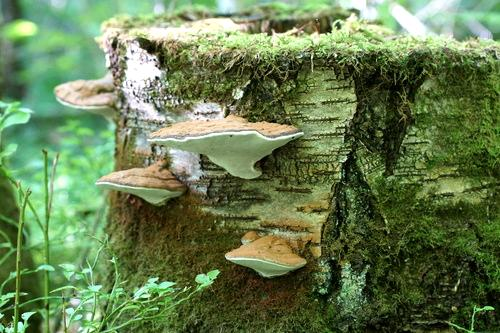Ganoderma - Fruit Body: (144, 113, 307, 180), (89, 155, 194, 211), (223, 230, 308, 279), (53, 72, 126, 115)
